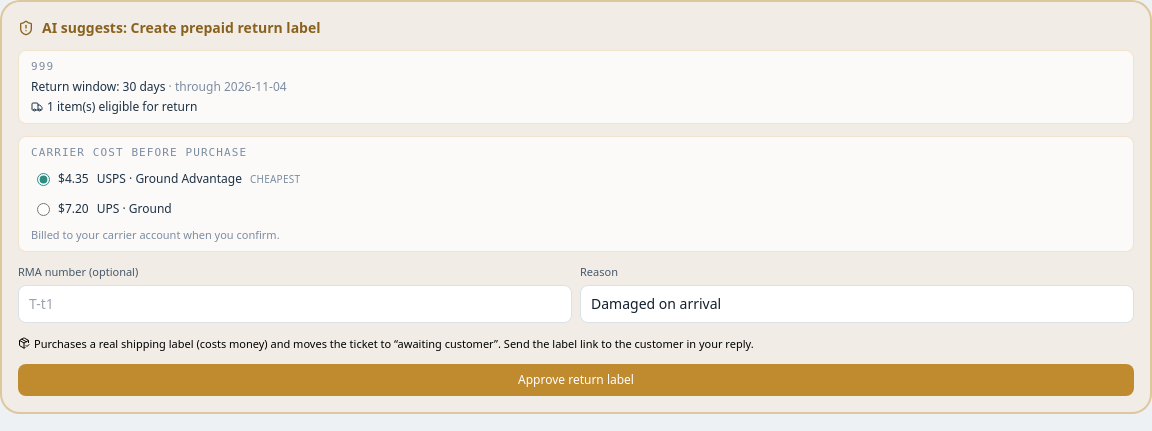
Test case: ReturnApprovalPanel › lets the operator pick a different carrier rate
Check: the text "Carrier cost before purchase" is shown, box [31, 146, 247, 159]
Click the radio button labelled "$7.20 UPS · Ground".
click(44, 209)  # box [37, 202, 50, 216]
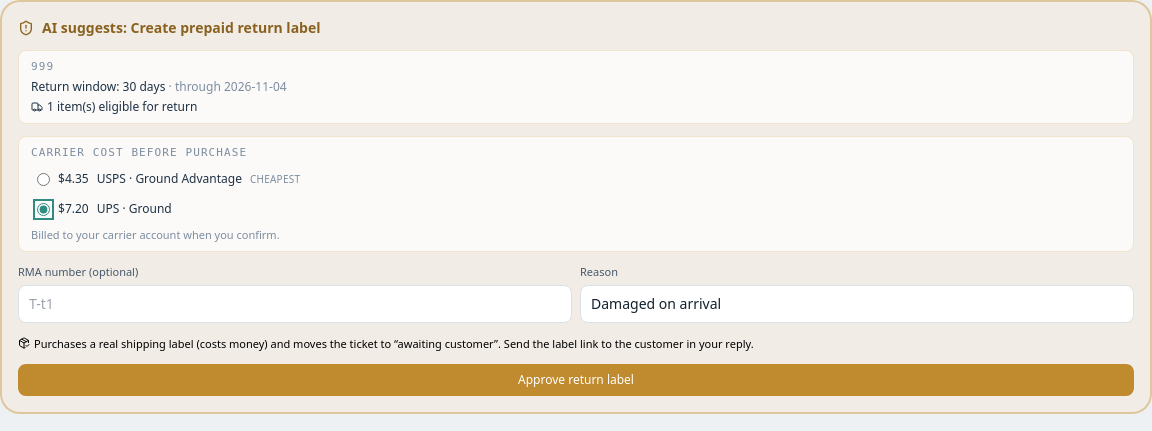
Click the button "Approve return label".
click(576, 380)  # box [18, 364, 1134, 396]
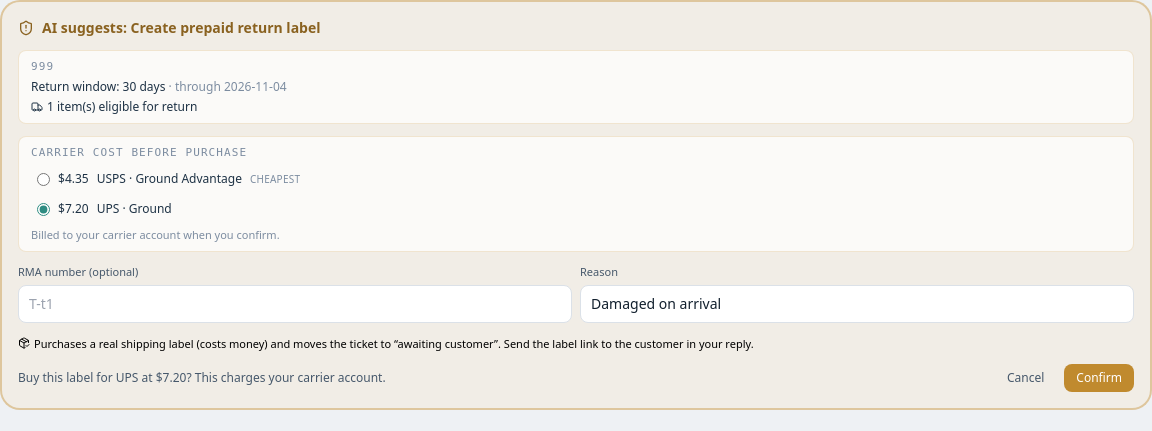
Click the button "Confirm".
click(1099, 378)  # box [1064, 364, 1134, 392]
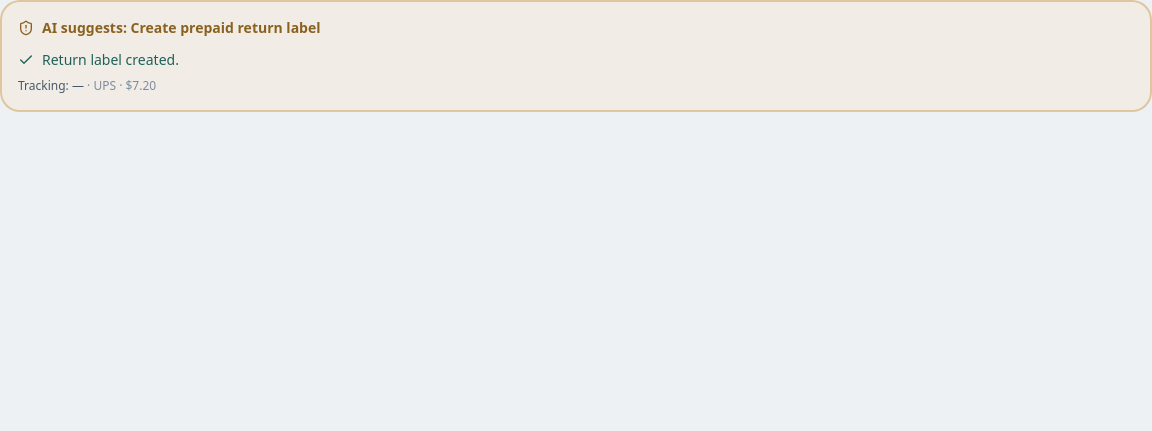
Check: the text "Return label created." is shown, box [18, 50, 179, 69]
